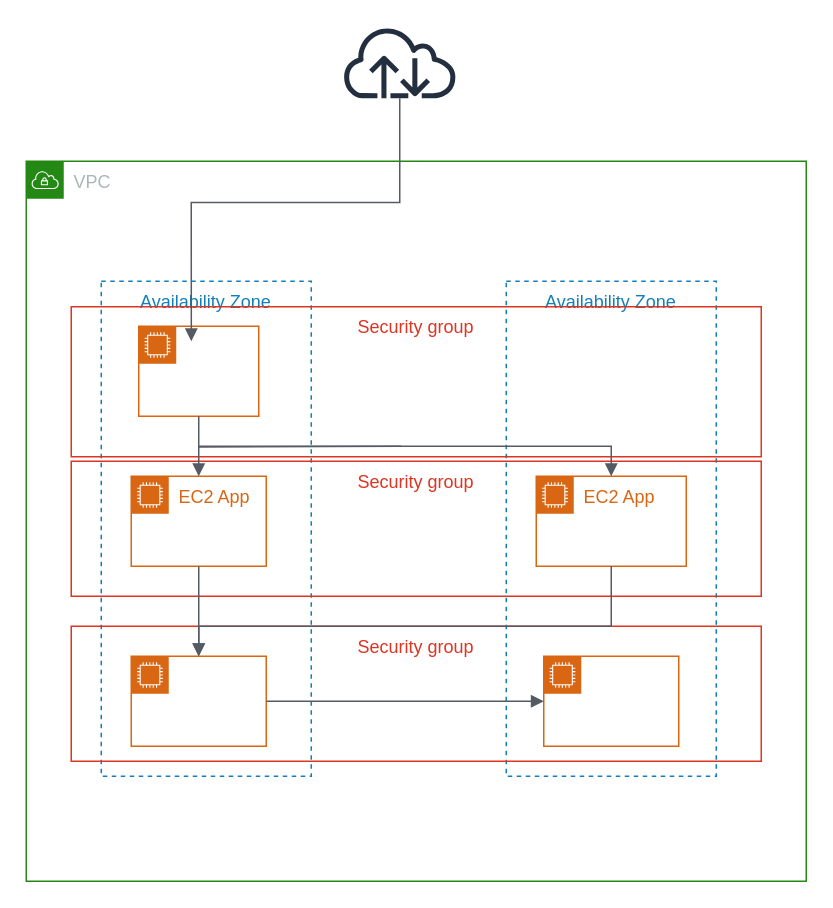
Image size: 833x908. Some labels were removed from this diagram. Each missing label, with the centre of its shape:
EC2 DB(master): (198,700)
EC2 DB(slave): (610,700)
EC2 Web Server: (198,370)
